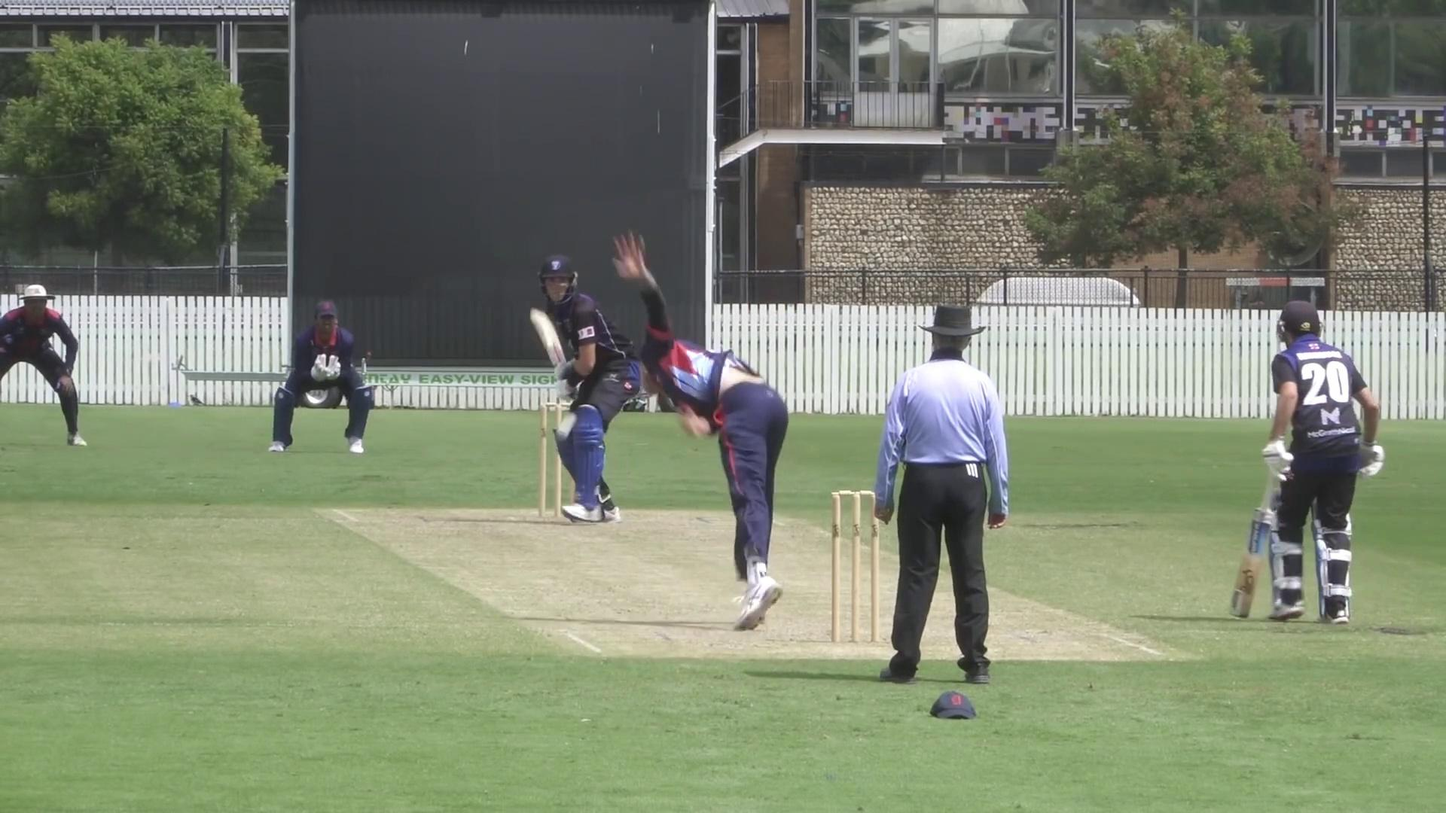ball: (552, 412, 581, 441)
